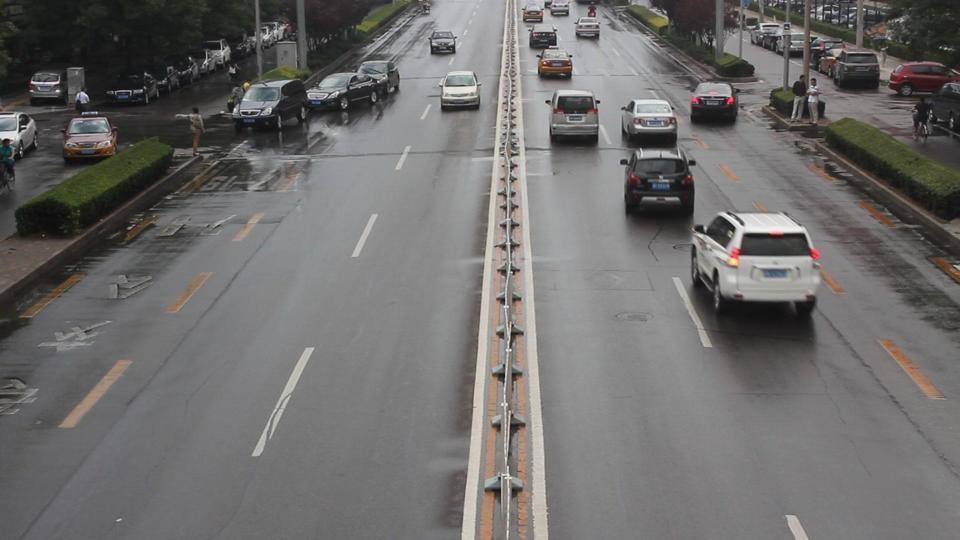car: (690, 211, 822, 321), (623, 149, 696, 217), (231, 78, 311, 131), (643, 87, 738, 129), (546, 89, 601, 143), (305, 72, 380, 111), (620, 98, 678, 146), (61, 114, 118, 161), (887, 61, 959, 96), (689, 81, 739, 125), (832, 47, 881, 90), (0, 111, 40, 158), (105, 71, 160, 105), (439, 70, 483, 112), (354, 61, 401, 97), (27, 69, 67, 106), (537, 47, 574, 80), (429, 30, 457, 55), (574, 15, 600, 39), (530, 27, 558, 49), (549, 0, 570, 17)
